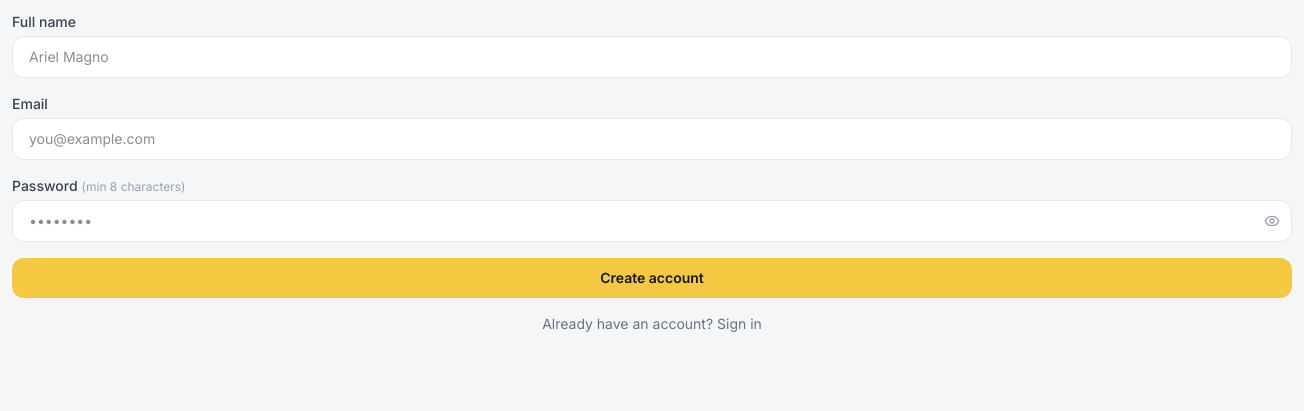
Scenario: RegisterForm › shows a duplicate-email warning when the server returns 409
In the field labelled "Full name": (652, 57) [12,36,1292,78], type "Alice"
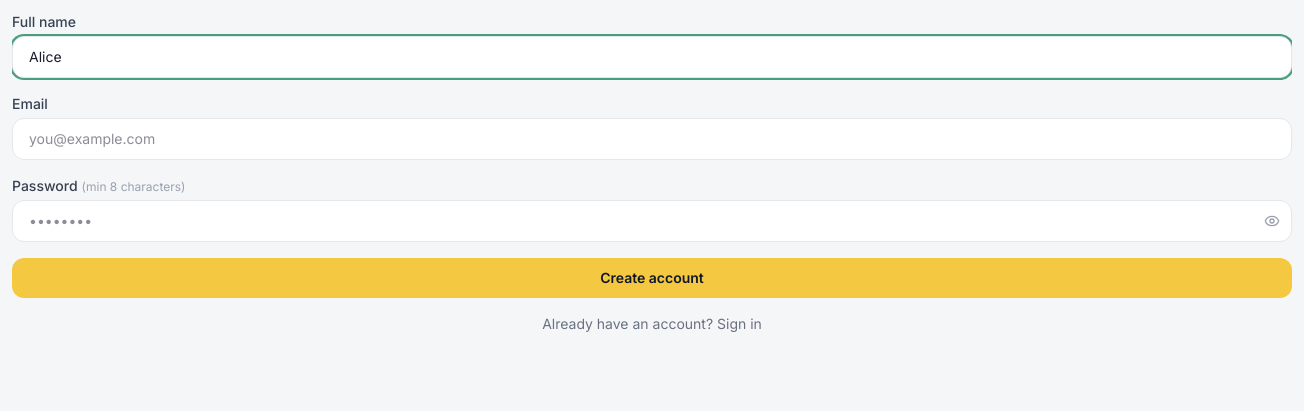
In the field labelled "Email": (652, 139) [12,118,1292,160], type "alice@test.com"
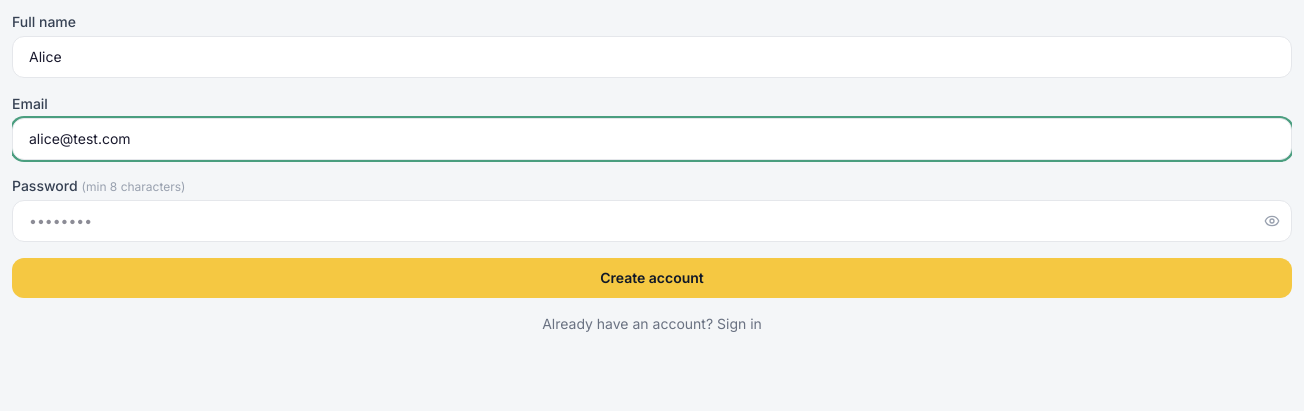
In the password field labelled "Password(min 8 characters)": (652, 221) [12,200,1292,242], type "password123"
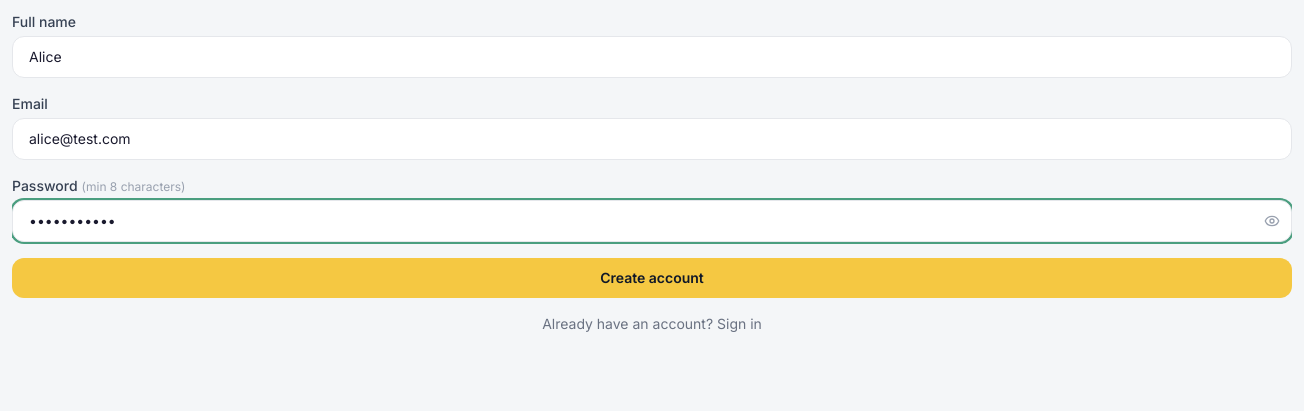
Click the button "Create account": (652, 278) [12,258,1292,298]
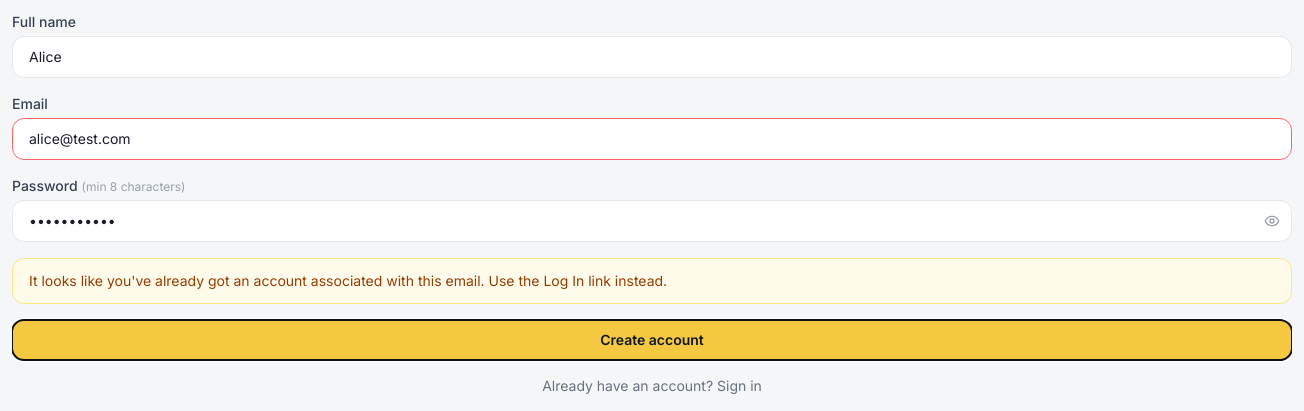
Result: the text "already got an account" is shown at [29,272,485,289]
